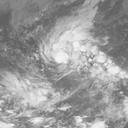cyclone: (36, 25, 85, 71)
